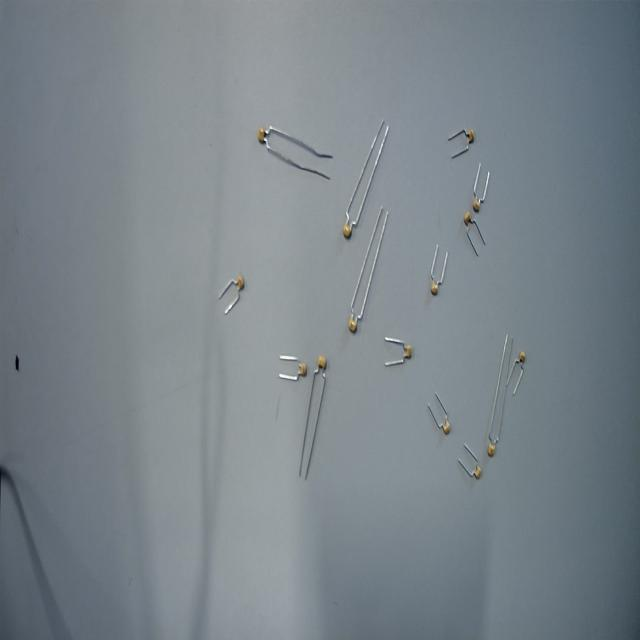capacitor: (250, 109, 292, 171), (441, 101, 480, 166), (342, 272, 376, 344), (507, 336, 540, 408), (218, 261, 251, 325), (333, 190, 362, 260), (309, 349, 336, 424), (443, 439, 484, 488), (430, 380, 461, 444), (457, 212, 490, 272), (381, 327, 421, 373), (271, 338, 310, 384), (480, 413, 511, 469), (424, 231, 448, 300), (471, 148, 496, 213)
